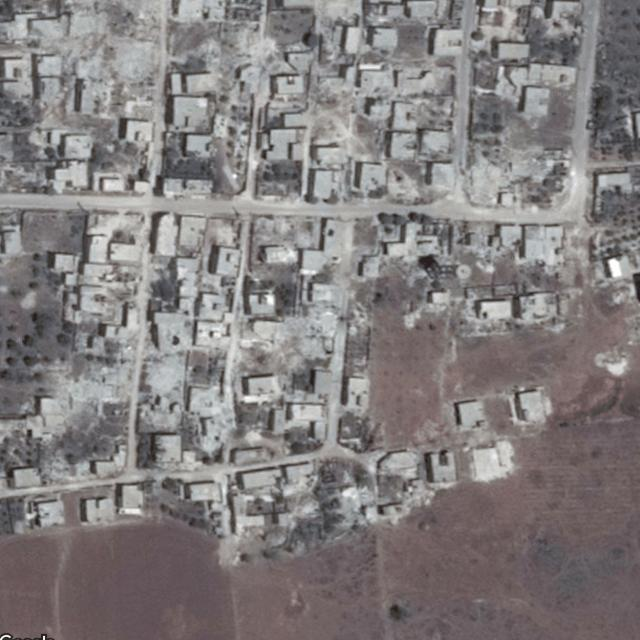damaged_building: (26, 0, 159, 118), (139, 318, 235, 450), (25, 329, 139, 440), (183, 19, 282, 107), (243, 280, 339, 361), (312, 60, 401, 121), (462, 138, 508, 204)
